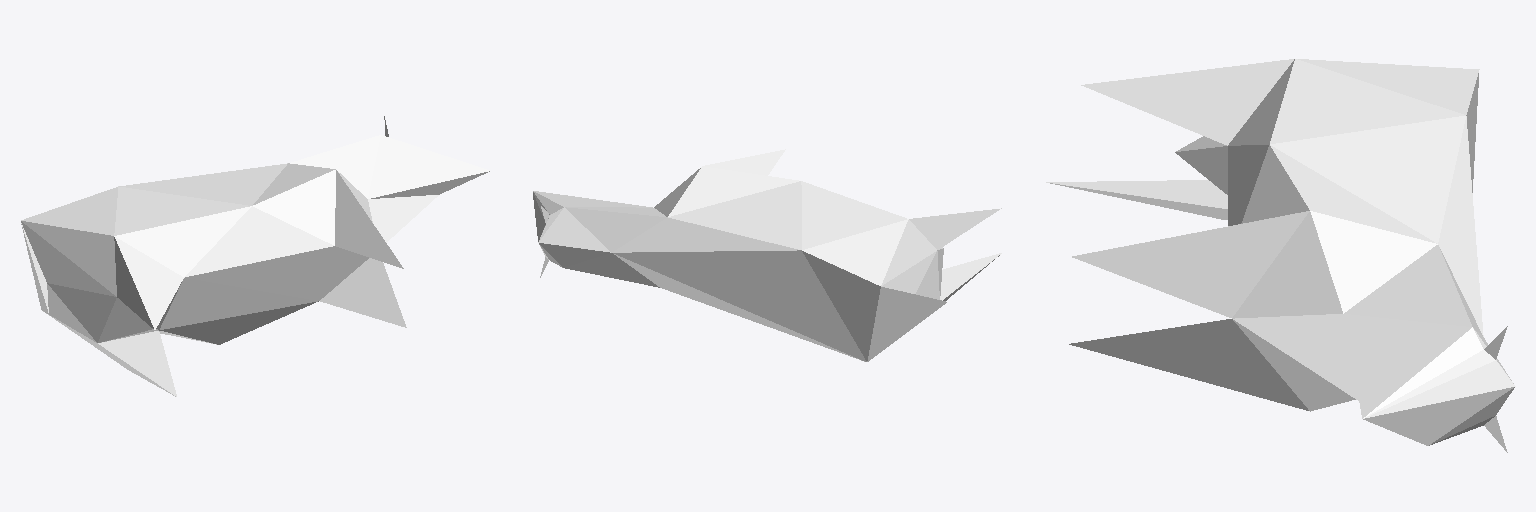
The robot description file, URDF, robot "cow_0.1.obj":
<robot name="cow_0.1.obj">
	<link name="_name">
		<visual>
			<origin rpy="0.0 0.0 0.0" xyz="-135.0234294229336 -588.5781579143138 232.381958" />
			<geometry>
				<mesh filename="cow_0.1.obj" scale="1 1 1" />
			</geometry>
			<material name="texture">
				<color rgba="1.0 1.0 1.0 1.0" />
			</material>
		</visual>
		<collision>
			<origin rpy="0.0 0.0 0.0" xyz="-135.0234294229336 -588.5781579143138 232.381958" />
			<geometry>
				<mesh filename="cow_0.1.obj" scale="1 1 1" />
			</geometry>
		</collision>
		<inertial>
			<mass value="1.0" />
			<inertia ixx="1.0" ixy="0.0" ixz="0.0" iyy="1.0" iyz="0.0" izz="1.0" />
		</inertial>
	</link>
</robot>

--- Render facts (derived) ---
3 views of the same robot in one strip: view 1: azimuth 30°, elevation 25°; view 2: azimuth 150°, elevation 25°; view 3: azimuth 270°, elevation 25° (orthographic).
Robot: cow_0.1.obj — 1 links, 0 joints (none); root link _name; default pose: all joints at 0.
Visible links, largest first — view 1: _name; view 2: _name; view 3: _name.
Boxes of the visible links, x1,y1,x2,y2 form: _name: [21, 116, 489, 396]; _name: [533, 149, 1001, 361]; _name: [1046, 59, 1515, 452].
Bounding box of the posed robot: 1445 × 878 × 440 m (x, y, z).
1 mesh visuals loaded from 1 distinct referenced files (1 OBJ).